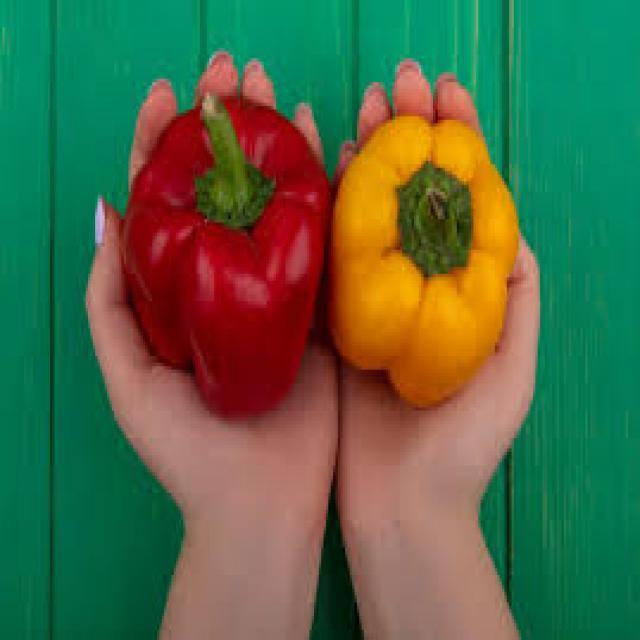Pepper: (121, 94, 331, 420), (325, 115, 520, 412)
